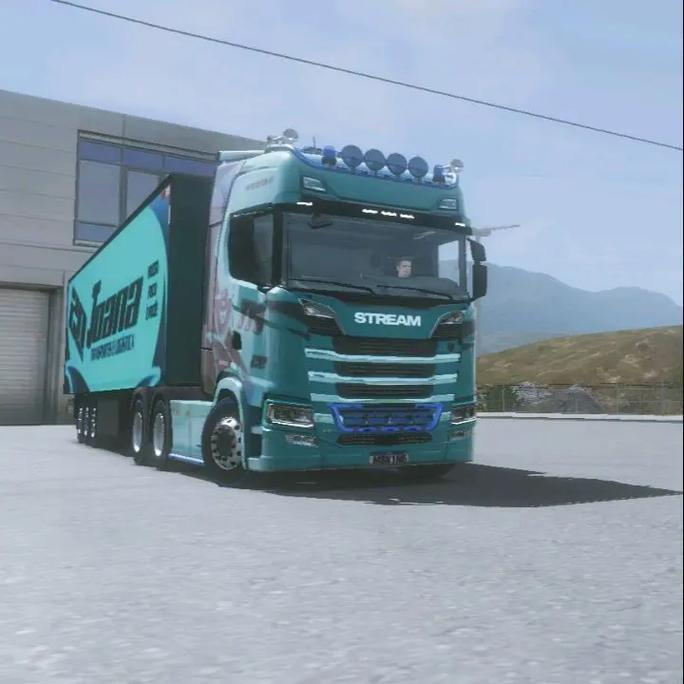卡车: (56, 129, 479, 485)
